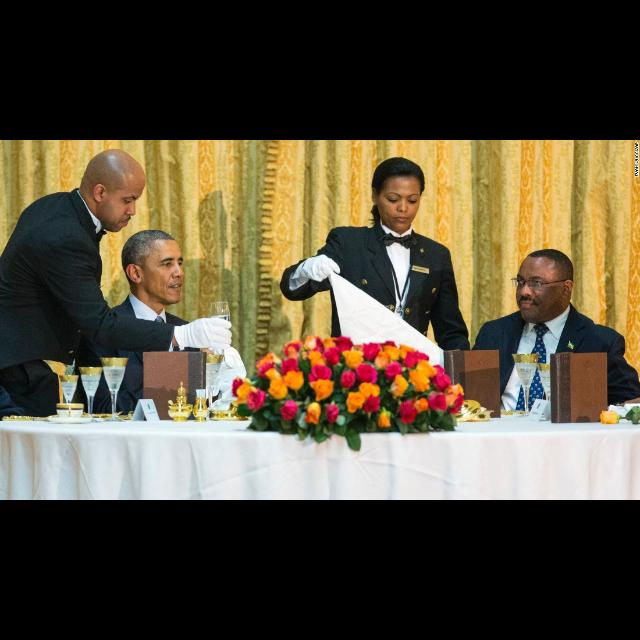head: (84, 148, 148, 235), (122, 230, 184, 306), (516, 248, 574, 322), (369, 160, 425, 232)
